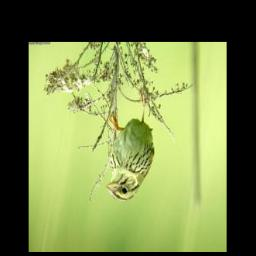Sparrow: (105, 89, 155, 202)
